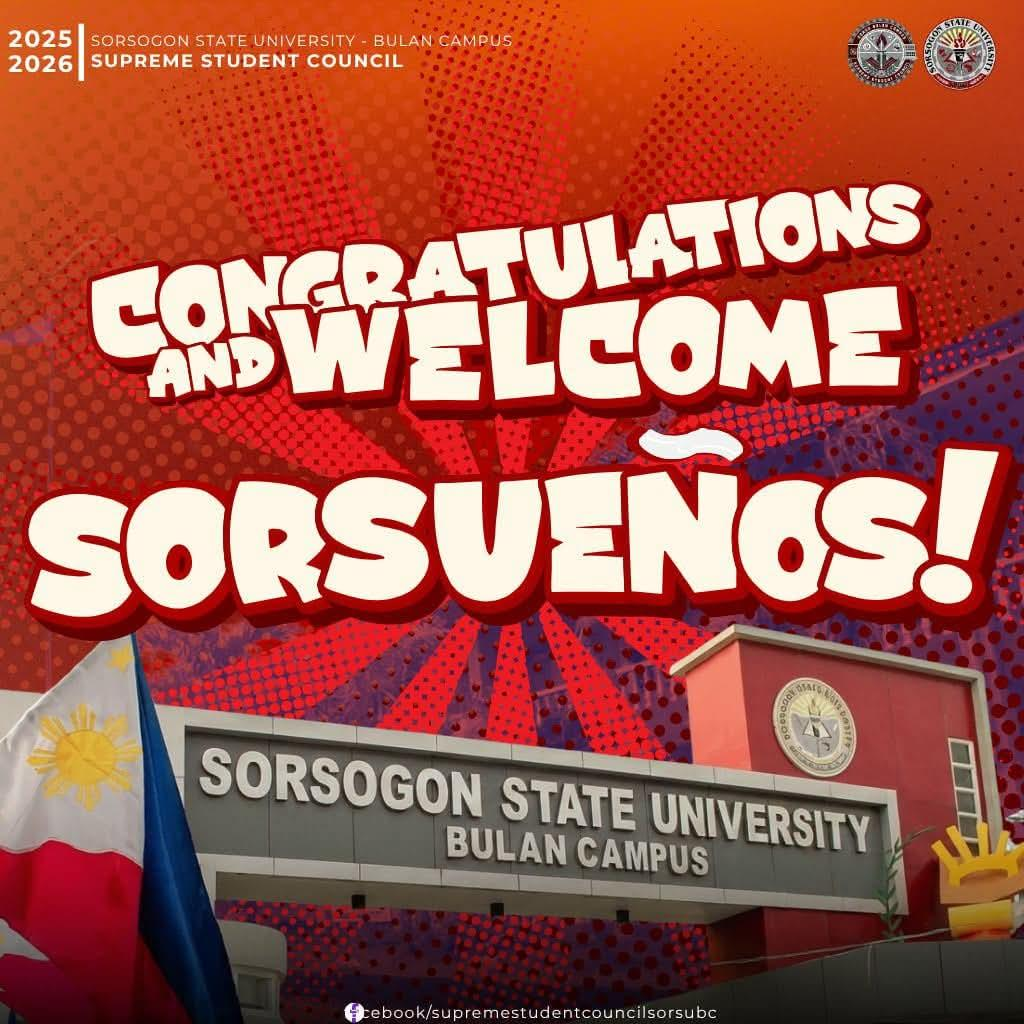embellishment: (1, 623, 1023, 1023), (337, 995, 367, 1024)
logo: (921, 13, 1000, 93), (842, 14, 919, 93)
text: (13, 418, 1023, 637), (80, 174, 945, 425), (88, 29, 519, 72), (348, 1001, 721, 1024), (4, 22, 76, 80)
